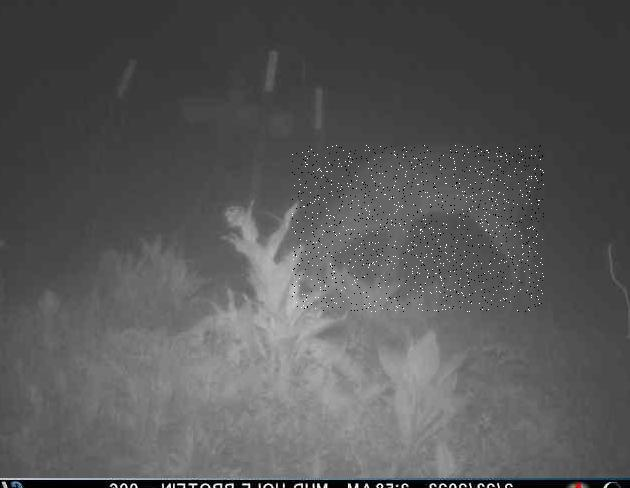Deer: (292, 145, 544, 312)
